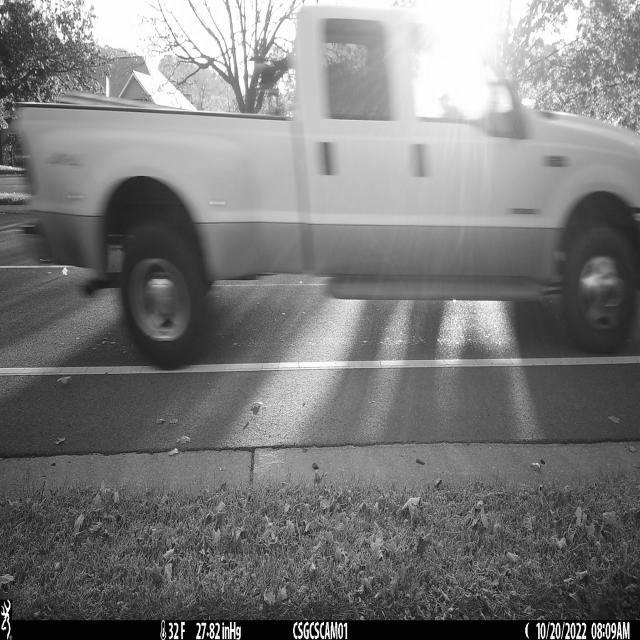Pickup: (14, 4, 640, 372)
